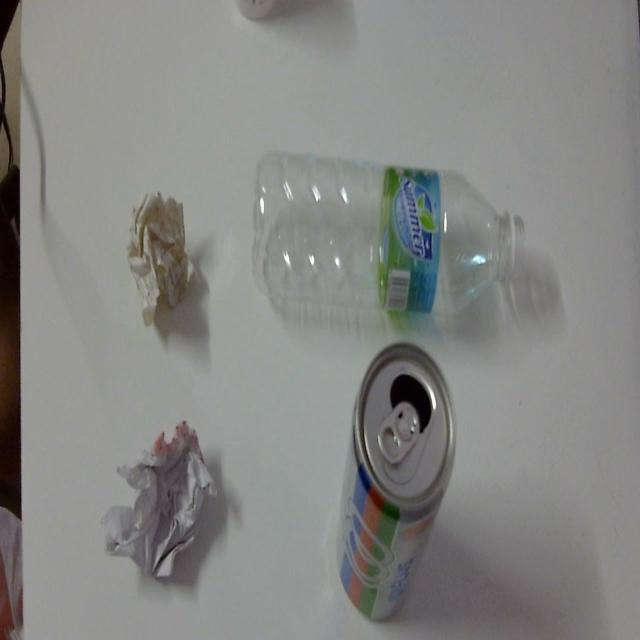metal_standrotation: (325, 332, 472, 626)
paperrotation: (99, 402, 231, 587), (125, 182, 205, 328)
plastic_laydown_0rotation: (248, 136, 540, 325)
